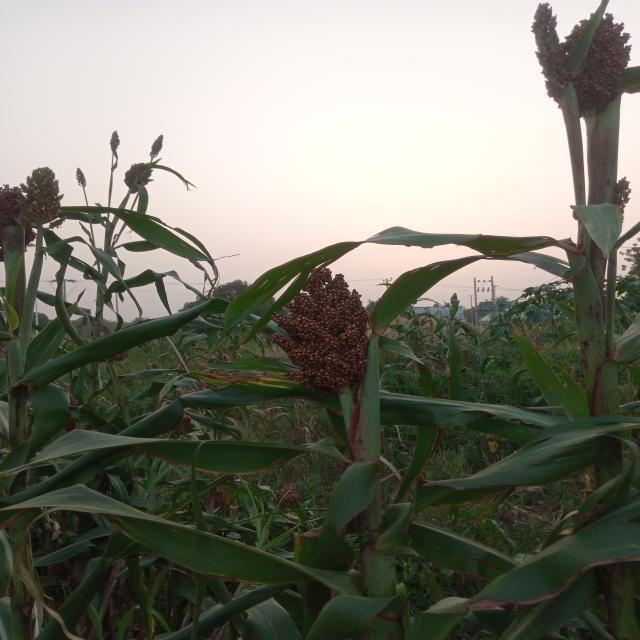RipeSorghum: (261, 264, 405, 400), (569, 6, 637, 123)
